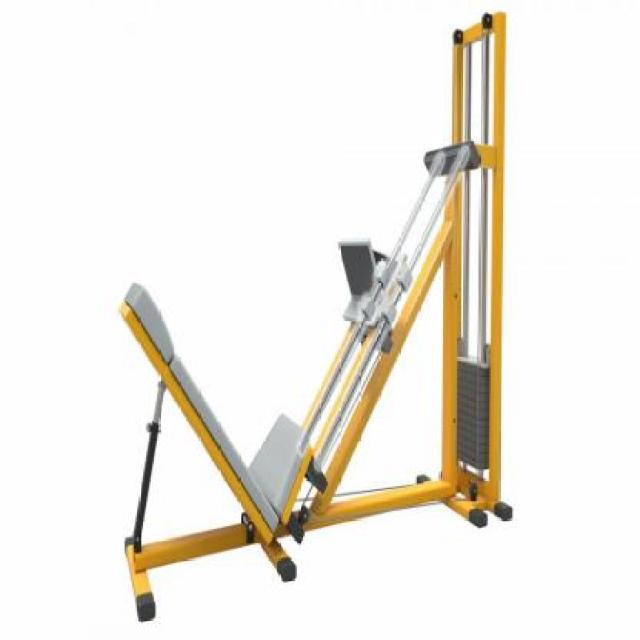leg press: (108, 6, 520, 640)
